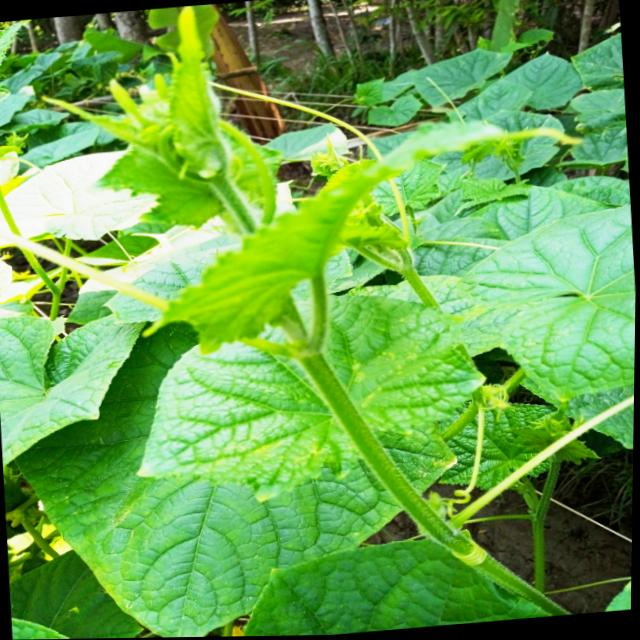Fresh-Leaf: (451, 201, 635, 402)
